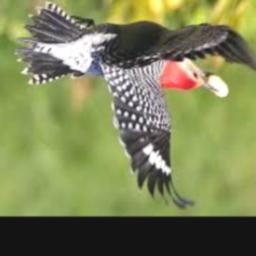Woodpecker: (14, 2, 256, 210)
